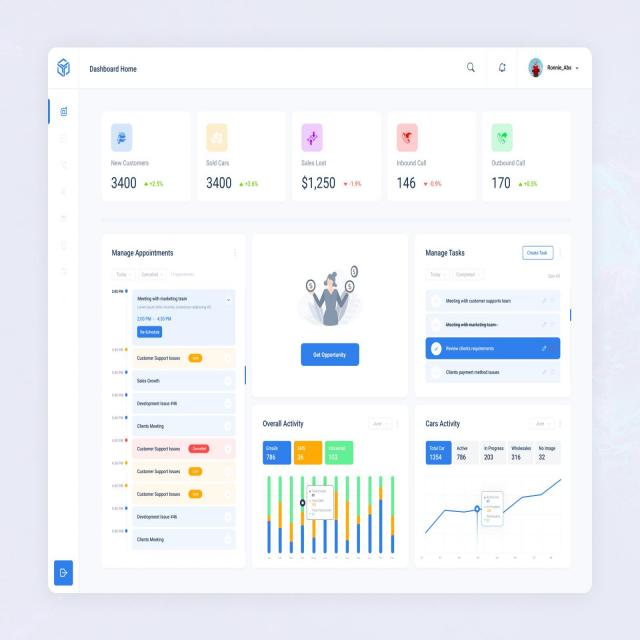button: (300, 341, 361, 368), (521, 244, 554, 261)
select: (545, 59, 581, 75), (369, 416, 393, 431), (530, 416, 555, 430)
